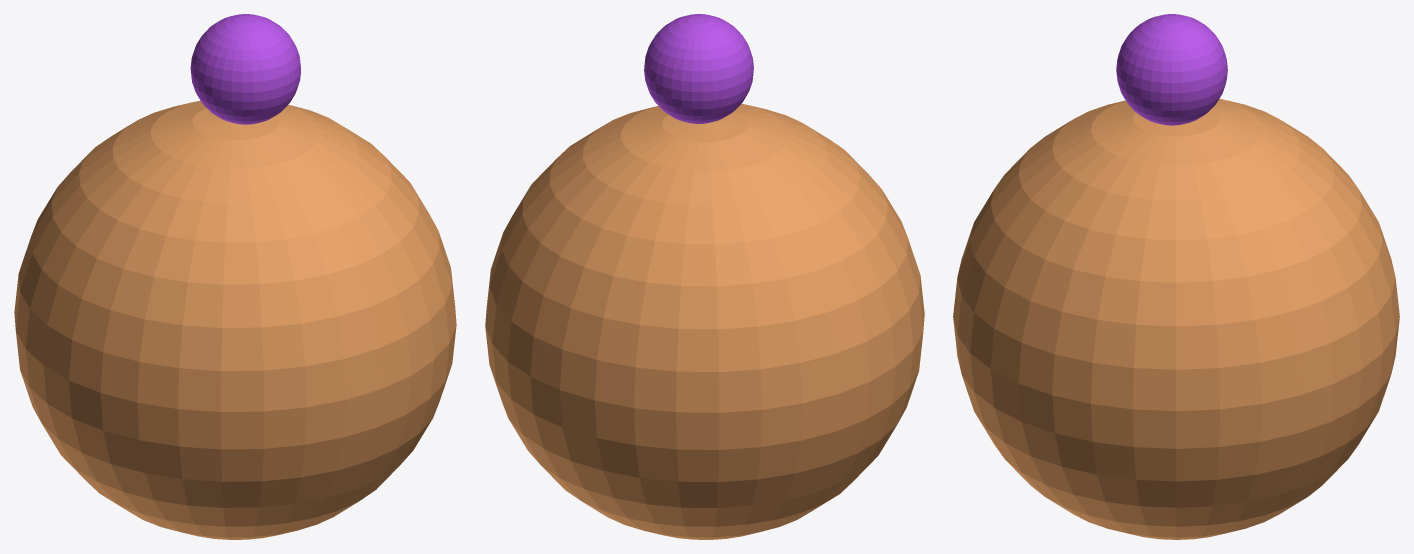
File: esfera.glb
3 renders of one model, left to right at view 1: azimuth 30°, elevation 25°; view 2: azimuth 150°, elevation 25°; view 3: azimuth 270°, elevation 25°, orthographic.
Parts seen in each view (by area): view 1: Sphere, Sphere.001; view 2: Sphere, Sphere.001; view 3: Sphere, Sphere.001.
Part boxes in pixels (x1=…): Sphere: x1=14, y1=100, x2=456, y2=539; Sphere.001: x1=190, y1=14, x2=300, y2=124; Sphere: x1=485, y1=103, x2=924, y2=539; Sphere.001: x1=644, y1=14, x2=753, y2=123; Sphere: x1=953, y1=98, x2=1399, y2=539; Sphere.001: x1=1116, y1=14, x2=1227, y2=125.
Bounding box in the file's own units: 4 × 4.98 × 4.
